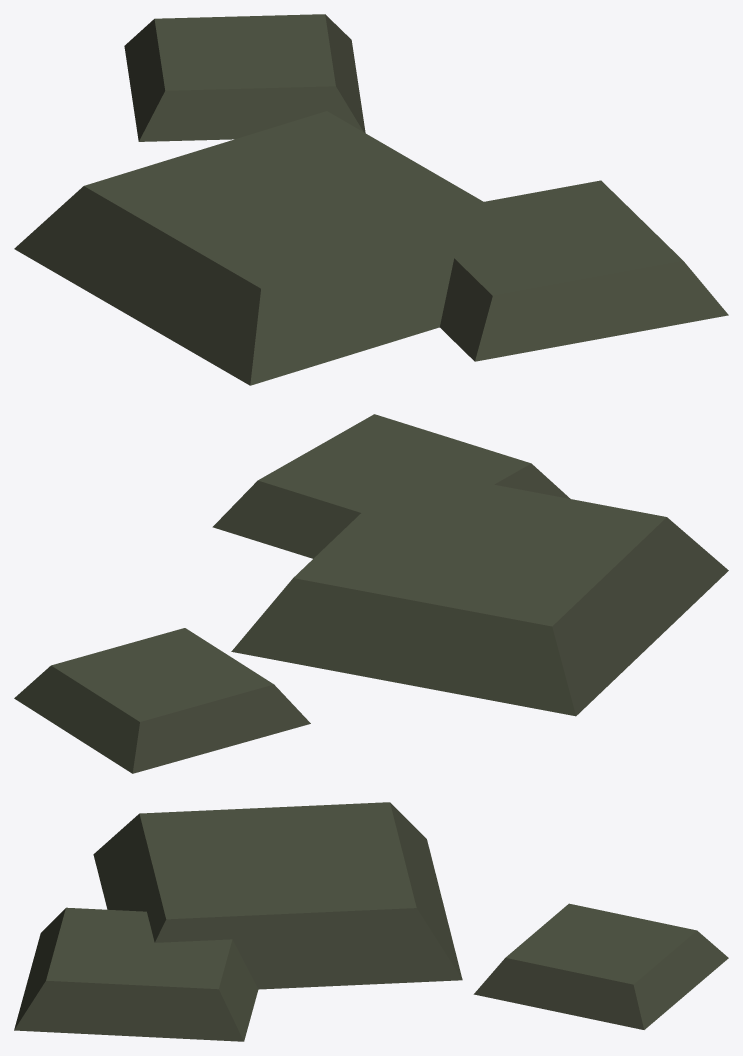
Rendered from AI_Env_Sewer_Plant_03.fbx.
The picture shows the model from 3 angles, top to bottom: view 1: azimuth 30°, elevation 25°; view 2: azimuth 150°, elevation 25°; view 3: azimuth 270°, elevation 25°; orthographic projection. The views are drawn at different scales.
Parts seen in each view (by area): view 1: AI_Env_Sewer_Plant_03; view 2: AI_Env_Sewer_Plant_03; view 3: AI_Env_Sewer_Plant_03.
Boxes of the visible parts, x1=… form: AI_Env_Sewer_Plant_03: x1=14, y1=14, x2=728, y2=385; AI_Env_Sewer_Plant_03: x1=14, y1=414, x2=728, y2=773; AI_Env_Sewer_Plant_03: x1=14, y1=802, x2=728, y2=1041.
Size of the model in its own units: 0.413 by 0.0538 by 0.6163.
